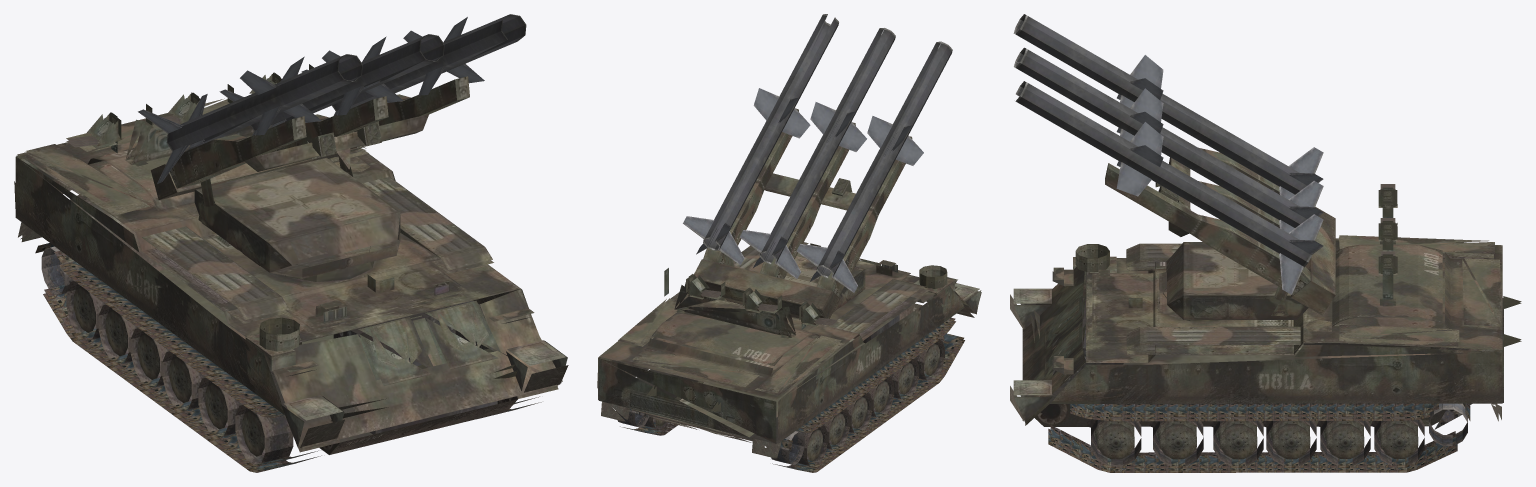
The model's file is missiletank_lod2_original.glb.
The picture shows the model from 3 angles, left to right: view 1: azimuth 30°, elevation 25°; view 2: azimuth 150°, elevation 25°; view 3: azimuth 270°, elevation 25°; orthographic projection. The views are drawn at different scales.
Parts seen in each view (by area): view 1: Tank_Tank_0.003, Tank_Wheel_0.003; view 2: Tank_Tank_0.003, Tank_Wheel_0.003; view 3: Tank_Tank_0.003, Tank_Wheel_0.003.
Boxes of the visible parts, x1,y1,x2,y2 form: Tank_Tank_0.003: [14, 14, 568, 464]; Tank_Wheel_0.003: [35, 243, 541, 472]; Tank_Tank_0.003: [597, 14, 981, 466]; Tank_Wheel_0.003: [616, 317, 964, 472]; Tank_Tank_0.003: [1010, 14, 1521, 466]; Tank_Wheel_0.003: [1048, 403, 1470, 472].
Bounding box in the file's own units: 94.2 × 144 × 180.
2 materials, 2 textured.
